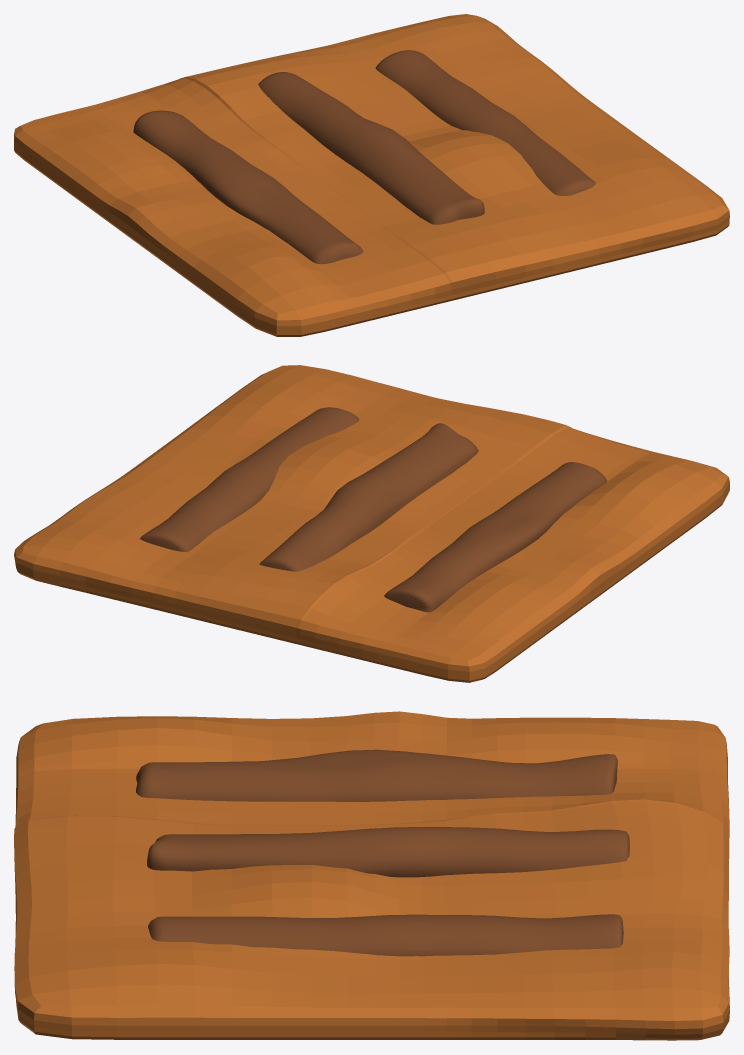
File: farm ground.fbx
3 views of the same model, one above another, from view 1: azimuth 30°, elevation 25°; view 2: azimuth 150°, elevation 25°; view 3: azimuth 270°, elevation 25° (orthographic). The views are drawn at different scales.
Parts seen in each view (by area): view 1: Cube, Cube.002, Cube.001, Cube.003; view 2: Cube, Cube.002, Cube.001, Cube.003; view 3: Cube, Cube.001, Cube.002, Cube.003.
Part boxes in pixels (<box>): Cube: <box>14,14,729,336</box>; Cube.002: <box>258,72,484,224</box>; Cube.001: <box>133,110,363,264</box>; Cube.003: <box>375,50,595,195</box>; Cube: <box>14,365,729,682</box>; Cube.002: <box>259,423,478,571</box>; Cube.001: <box>384,462,606,612</box>; Cube.003: <box>140,407,359,551</box>; Cube: <box>14,711,729,1040</box>; Cube.001: <box>136,749,617,801</box>; Cube.002: <box>147,827,629,877</box>; Cube.003: <box>148,914,623,956</box>.
Size of the model in its own units: 808 by 84.48 by 807.
